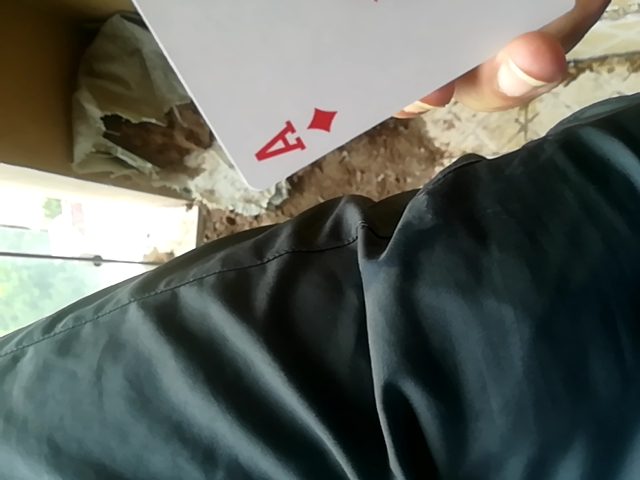fk a: (104, 2, 636, 193)
